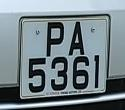1: (89, 52, 103, 92)
3: (47, 56, 71, 94)
5: (25, 55, 50, 96)
6: (69, 54, 91, 92)
A: (67, 20, 87, 56)
P: (43, 21, 66, 56)
